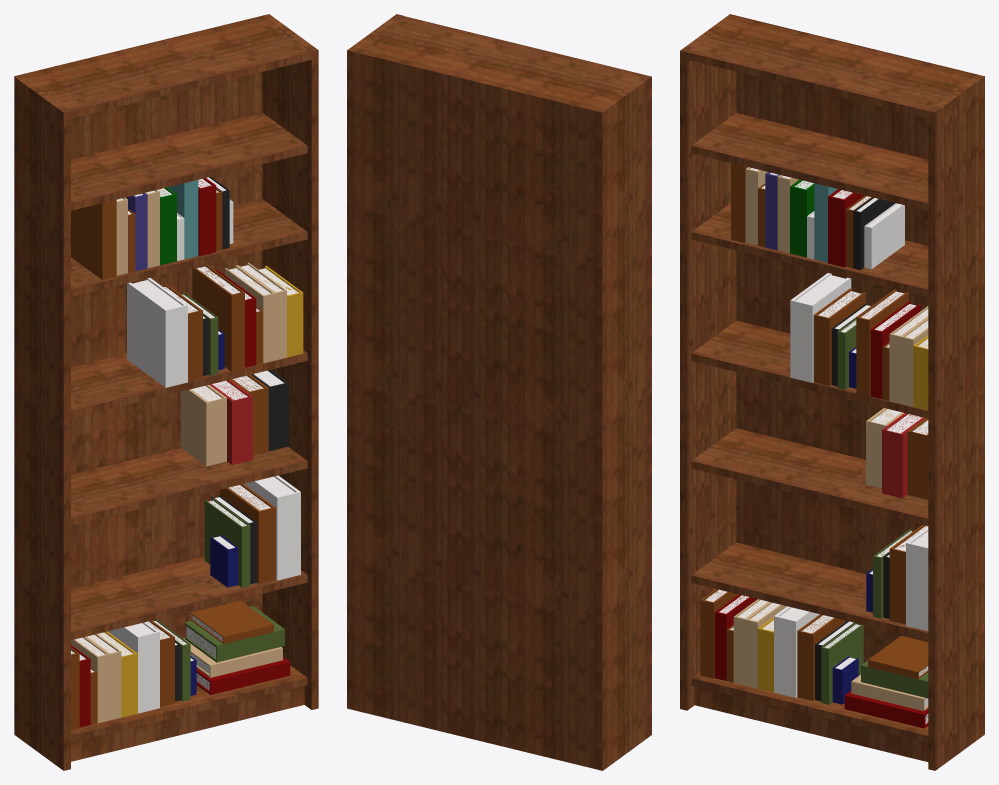
The model's file is Bookcase1.dae.
The picture shows the model from 3 angles, left to right: view 1: azimuth 30°, elevation 25°; view 2: azimuth 150°, elevation 25°; view 3: azimuth 330°, elevation 25°; orthographic projection.
Parts seen in each view (by area): view 1: Component16 (×17), Component17, Component4 (×3), Component12 (×3), Component14 (×6), Component13 (×3), Component19, Component40, Component15 (×2), Component5 (×2), Component29, Component44 (+14 smaller); view 2: Component17, Component16 (×2); view 3: Component16 (×17), Component17, Component14 (×6), Component4 (×3), Component12 (×4), Component13 (×3), Component5 (×2), Component8 (×2), Component15 (×2), Component40, Component20, Component33 (+14 smaller).
Boxes of the visible parts, x1=… form: Component16 (×17): x1=14, y1=14, x2=318, y2=770; Component17: x1=14, y1=14, x2=269, y2=733; Component4 (×3): x1=108, y1=278, x2=187, y2=713; Component12 (×3): x1=71, y1=200, x2=244, y2=730; Component14 (×6): x1=71, y1=190, x2=286, y2=723; Component13 (×3): x1=71, y1=178, x2=256, y2=727; Component19: x1=181, y1=385, x2=226, y2=466; Component40: x1=244, y1=475, x2=300, y2=580; Component15 (×2): x1=104, y1=265, x2=303, y2=717; Component5 (×2): x1=149, y1=284, x2=202, y2=706; Component29: x1=190, y1=600, x2=273, y2=643; Component44: x1=204, y1=498, x2=250, y2=587; Component17: x1=347, y1=50, x2=602, y2=770; Component16 (×2): x1=355, y1=16, x2=651, y2=770; Component16 (×17): x1=680, y1=14, x2=984, y2=770; Component17: x1=729, y1=14, x2=984, y2=734; Component14 (×6): x1=733, y1=167, x2=928, y2=688; Component4 (×3): x1=774, y1=273, x2=851, y2=697; Component12 (×4): x1=700, y1=163, x2=908, y2=678; Component13 (×3): x1=714, y1=189, x2=920, y2=680; Component5 (×2): x1=797, y1=288, x2=865, y2=700; Component8 (×2): x1=821, y1=318, x2=863, y2=704; Component15 (×2): x1=757, y1=335, x2=928, y2=692; Component40: x1=906, y1=527, x2=928, y2=630; Component20: x1=882, y1=413, x2=924, y2=498; Component33: x1=864, y1=203, x2=904, y2=269.
Bounding box in the file's own units: 36 × 12.13 × 88.82.
Materials: 13 (1 with a texture image).
